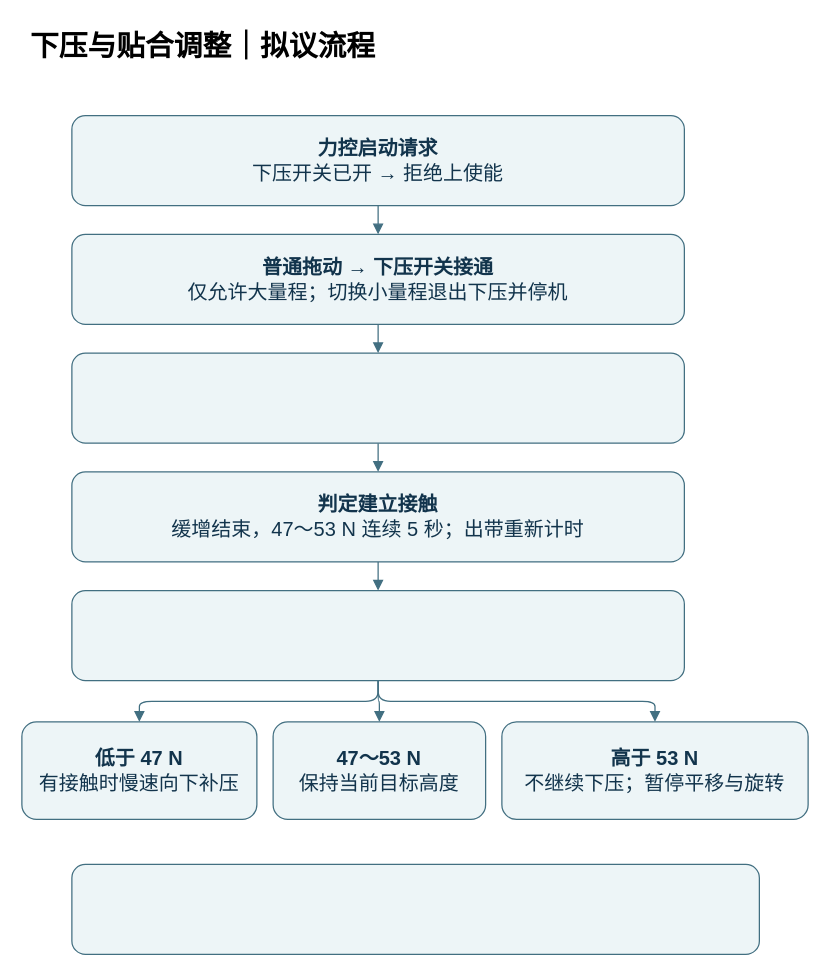
This 838x976 diagram has some shape labels left out. The shapes that lost their labels are listed below. From the top down, each one's centre as x and y in pixels, then its label:
pixel 377 397: 建立压力｜锁住 XY 和绕 Z 目标力缓增；按力误差算速度，再积分为 Z 目标
pixel 377 635: 进入贴合调整｜不等于已经面接触 允许沿 XY 和绕 Z 调整，不接受手动 Z 拖动
pixel 415 908: 退出 关下压 → 同步实际位姿，不自动抬升；关力控 → 停机
